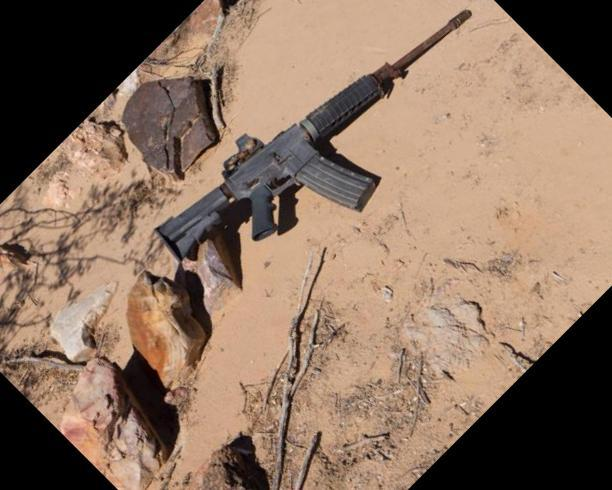larga: (156, 8, 472, 262)
